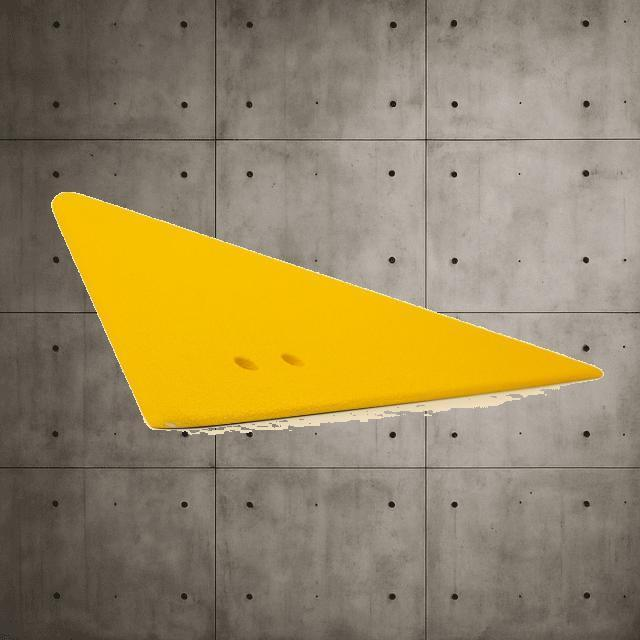Volume: (50, 191, 602, 431)
